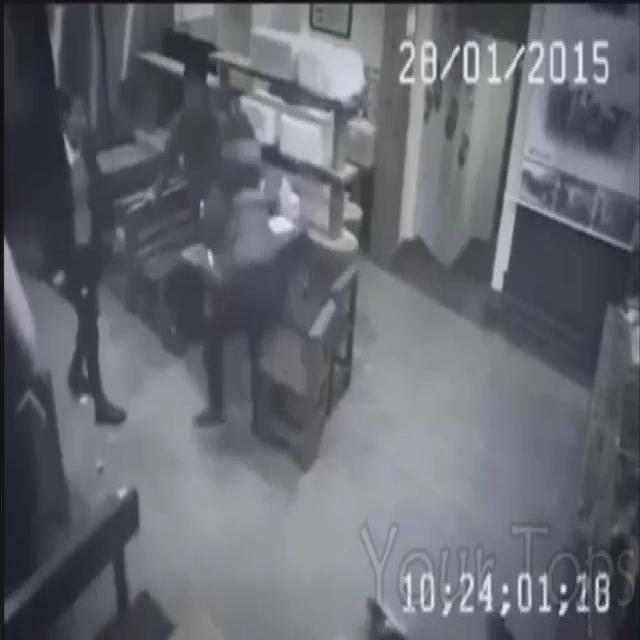fight: (162, 43, 284, 438)
